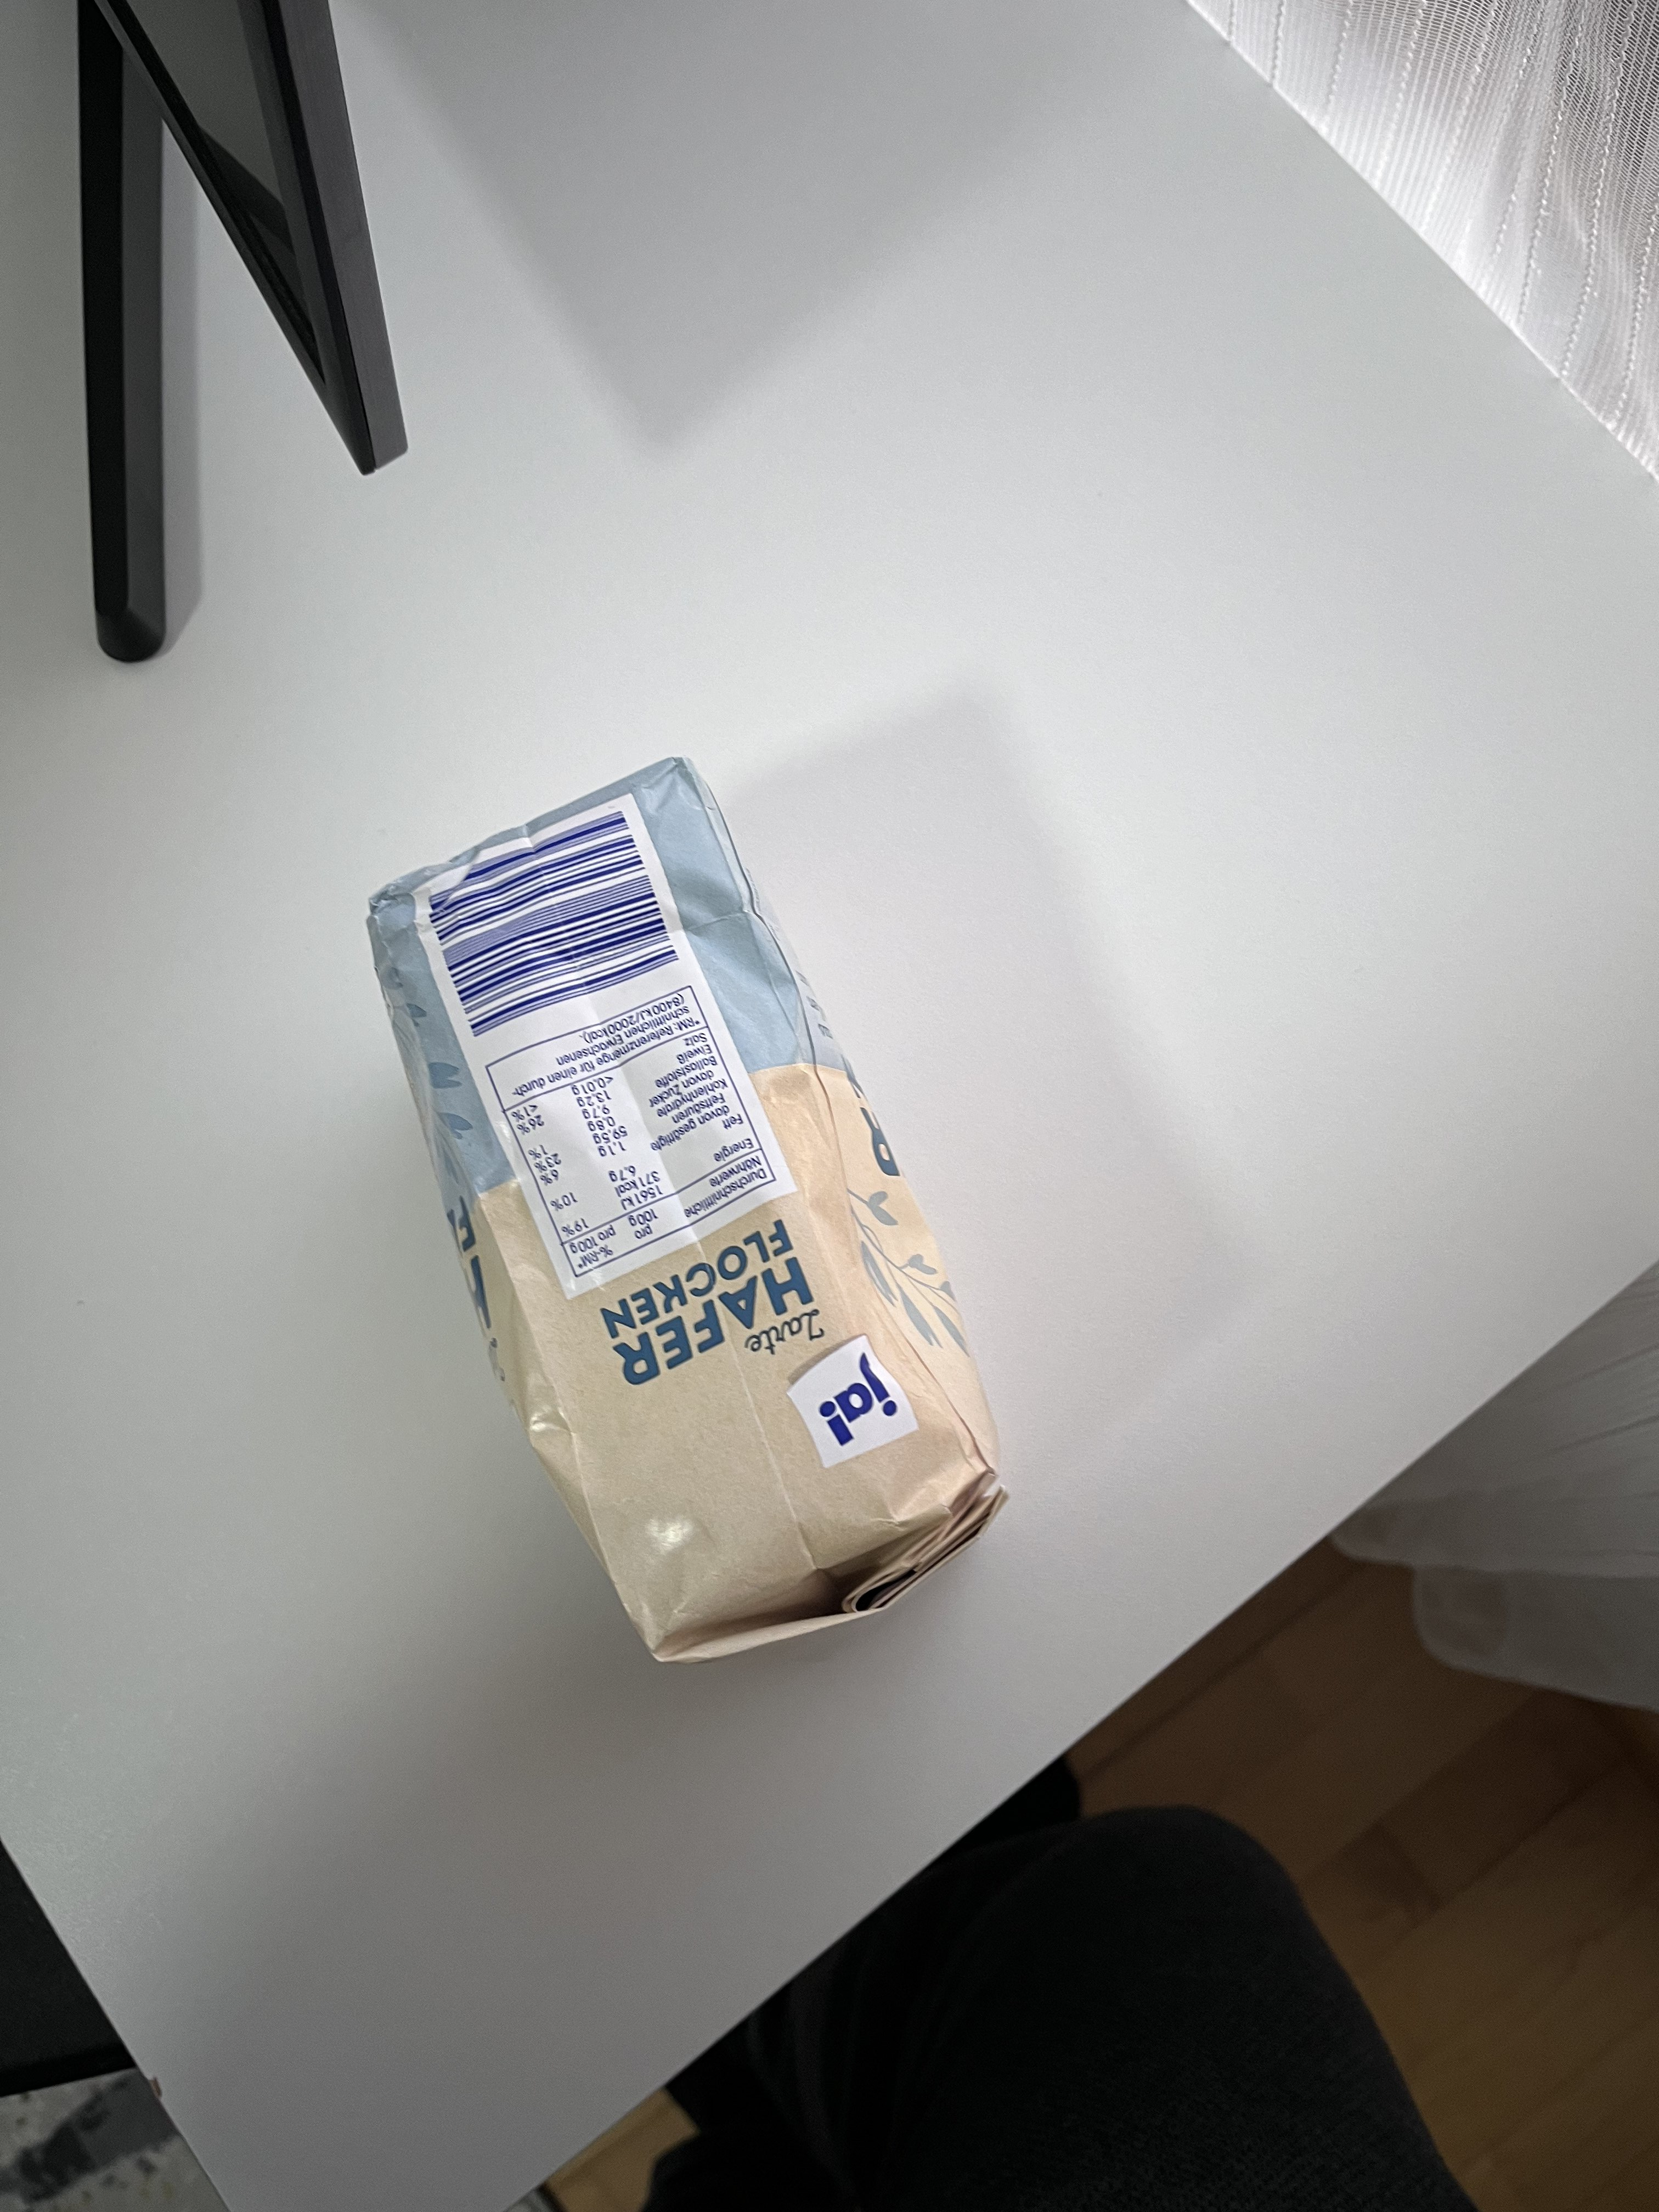haferflocken_ja: (375, 754, 1012, 1670)
